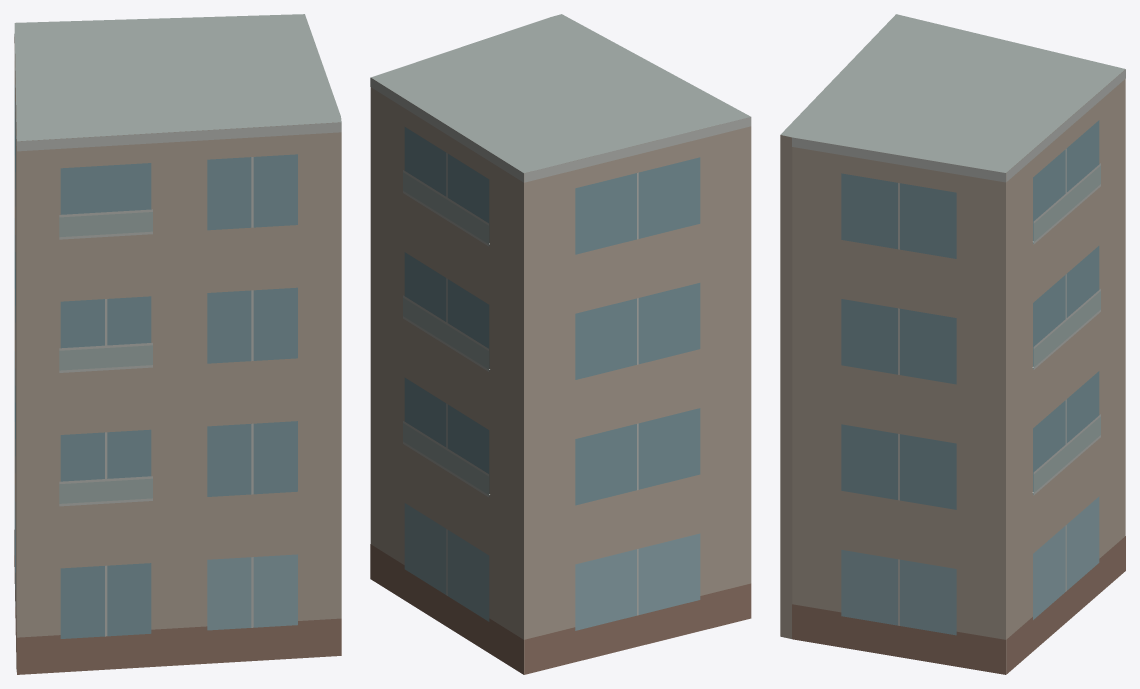
File: survey-upis-32470905.glb
The picture shows the model from 3 angles, left to right: view 1: azimuth 30°, elevation 25°; view 2: azimuth 150°, elevation 25°; view 3: azimuth 270°, elevation 25°; orthographic projection. The views are drawn at different scales.
Parts seen in each view (by area): view 1: survey-upis-32470905.tmp; view 2: survey-upis-32470905.tmp; view 3: survey-upis-32470905.tmp.
Boxes of the visible parts, x1=… form: survey-upis-32470905.tmp: x1=14, y1=14, x2=341, y2=674; survey-upis-32470905.tmp: x1=370, y1=14, x2=751, y2=674; survey-upis-32470905.tmp: x1=780, y1=14, x2=1125, y2=674.
Bounding box in the file's own units: 8.78 × 12.9 × 8.06.
